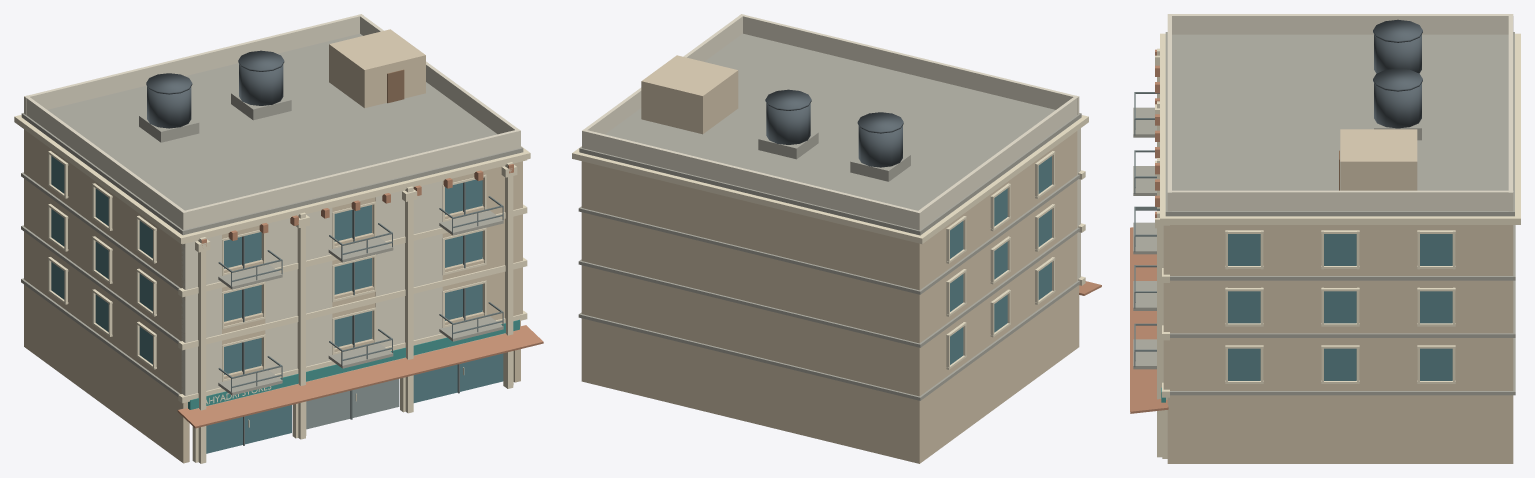
File: heritage-shop-medium.glb
3 renders of one model, left to right at view 1: azimuth 30°, elevation 25°; view 2: azimuth 150°, elevation 25°; view 3: azimuth 270°, elevation 25°, orthographic. The views are drawn at different scales.
Parts seen in each view (by area): view 1: heritage-shop_CONCRETE, heritage-shop_PLASTER, heritage-shop_PLASTER_LIGHT, heritage-shop_CREAM, heritage-shop_GLASS, heritage-shop_TERRACOTTA, heritage-shop_TANK, heritage-shop_METAL, heritage-shop_SHUTTER, heritage-shop_AWNING, heritage-shop_WOOD; view 2: heritage-shop_PLASTER, heritage-shop_CONCRETE, heritage-shop_PLASTER_LIGHT, heritage-shop_CREAM, heritage-shop_TANK, heritage-shop_GLASS; view 3: heritage-shop_PLASTER, heritage-shop_CONCRETE, heritage-shop_PLASTER_LIGHT, heritage-shop_CREAM, heritage-shop_GLASS, heritage-shop_TANK, heritage-shop_TERRACOTTA, heritage-shop_METAL.
Boxes of the visible parts, x1,y1,x2,y2 form: heritage-shop_CONCRETE: (21, 33, 523, 396); heritage-shop_PLASTER: (24, 29, 522, 463); heritage-shop_PLASTER_LIGHT: (24, 14, 520, 395); heritage-shop_CREAM: (14, 115, 530, 463); heritage-shop_GLASS: (51, 156, 503, 453); heritage-shop_TERRACOTTA: (177, 164, 543, 428); heritage-shop_TANK: (146, 50, 284, 128); heritage-shop_METAL: (218, 182, 503, 445); heritage-shop_SHUTTER: (306, 379, 399, 429); heritage-shop_AWNING: (188, 319, 519, 409); heritage-shop_WOOD: (387, 69, 404, 103); heritage-shop_PLASTER: (581, 55, 1079, 463); heritage-shop_CONCRETE: (578, 33, 1081, 400); heritage-shop_PLASTER_LIGHT: (582, 14, 1080, 280); heritage-shop_CREAM: (572, 115, 1088, 369); heritage-shop_TANK: (765, 89, 903, 167); heritage-shop_GLASS: (950, 156, 1051, 364); heritage-shop_PLASTER: (1163, 129, 1513, 463); heritage-shop_CONCRETE: (1133, 32, 1515, 395); heritage-shop_PLASTER_LIGHT: (1167, 14, 1513, 211); heritage-shop_CREAM: (1155, 33, 1520, 458); heritage-shop_GLASS: (1228, 234, 1452, 380); heritage-shop_TANK: (1373, 19, 1422, 128); heritage-shop_TERRACOTTA: (1130, 49, 1168, 413); heritage-shop_METAL: (1134, 92, 1159, 367).
Bounding box in the file's own units: 22.8 × 17.46 × 20.35.
